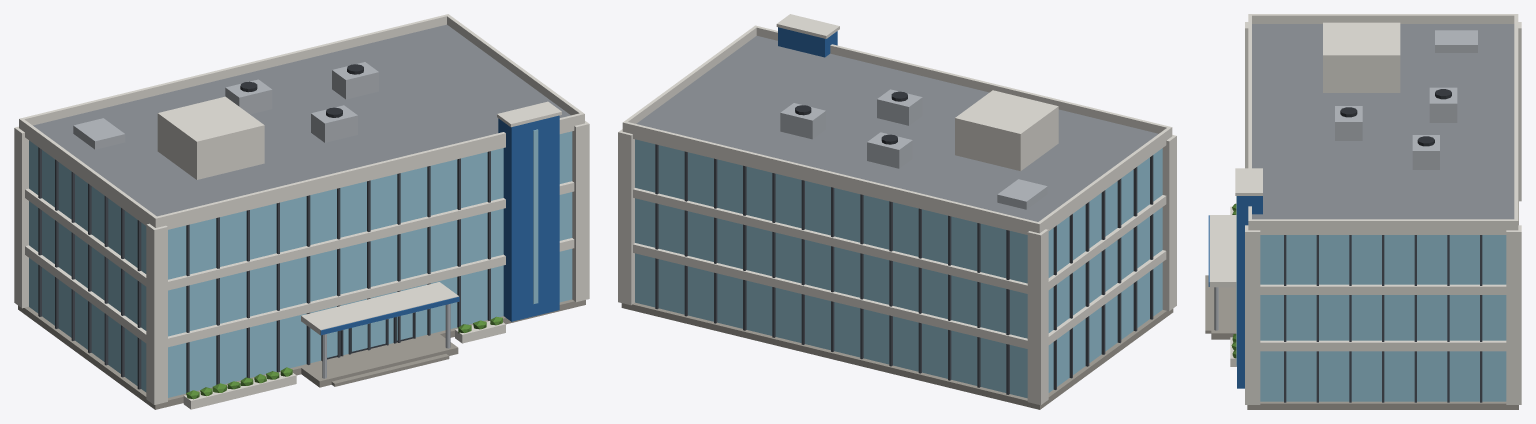
The model's file is bld_office.glb.
3 views of the same model, side by side, from view 1: azimuth 30°, elevation 25°; view 2: azimuth 150°, elevation 25°; view 3: azimuth 270°, elevation 25° (orthographic). The views are drawn at different scales.
Parts seen in each view (by area): view 1: bld_office; view 2: bld_office; view 3: bld_office.
Part boxes in pixels (left/top/right/bottom): bld_office: left=14, top=14, right=589, bottom=409; bld_office: left=618, top=14, right=1176, bottom=409; bld_office: left=1205, top=14, right=1521, bottom=409.
Size of the model in its own units: 28.9 by 14 by 18.4.
